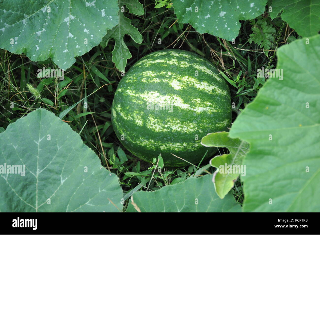dua_hau: (110, 47, 241, 161)
